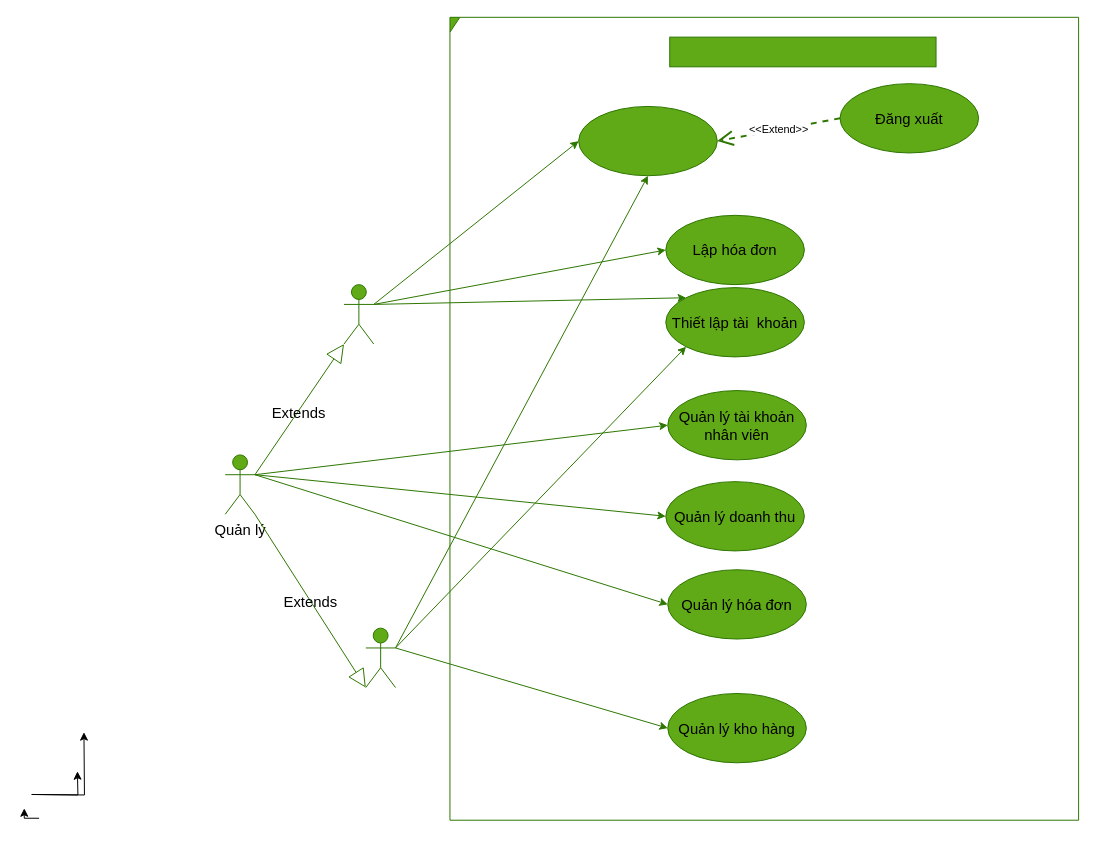
The diagram is 1096 pixels wide and 843 high, and some of its shapes have lost their labels. The shapes that lost their labels are listed below. From the top down, each one's centre as x and y in pixels, then its label:
At point 802,51: "Ứng dụng quản lý Shop quần áo".
At point 647,140: "Đăng nhập".
At point 358,314: "Nhân viên bán hàng".
At point 380,657: "Nhân viên kho".
